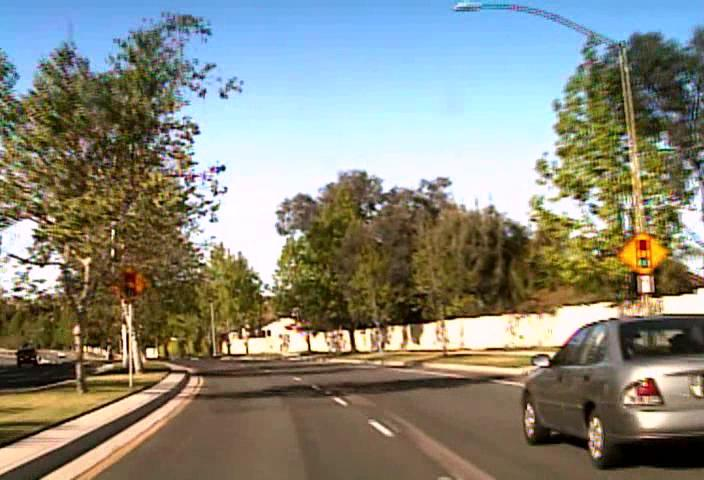signalAhead: (617, 230, 667, 274)
